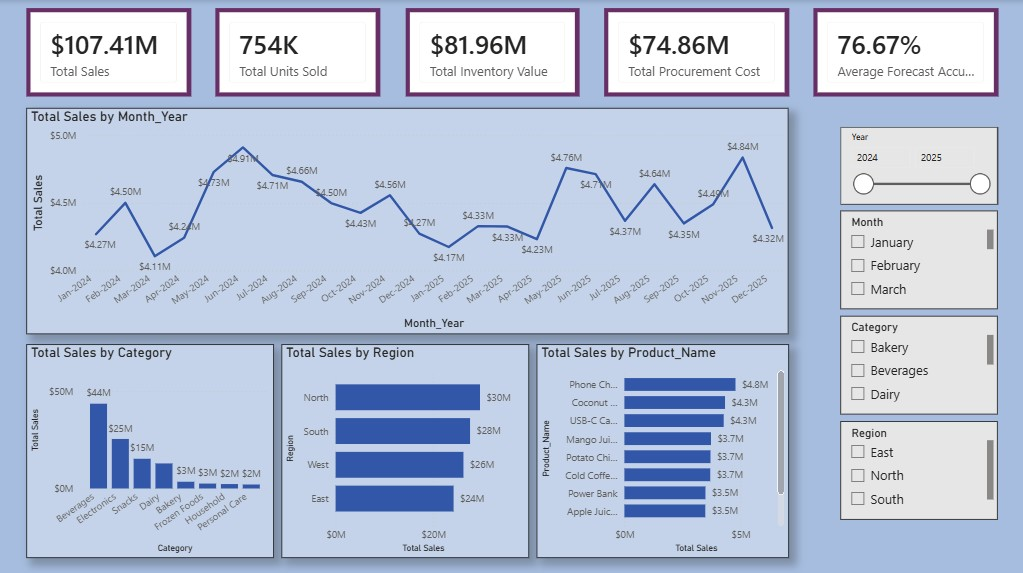

The page's visual inventory and layout, read from the dashboard file:
{"tool":"powerbi","page":{"name":"Executive Summary","canvas":[1280,720],"ordinal":0},"visuals":[{"type":"cardVisual","fields":{"Data":["Measures (2).Total Sales"]},"box":[34.9,9.4,205.9,110.7],"z":0},{"type":"cardVisual","fields":{"Data":["Measures (2).Total Units Sold"]},"box":[271.9,9.4,205.9,110.7],"z":1000},{"type":"cardVisual","fields":{"Data":["Measures (2).Total Inventory Value"]},"box":[509,9.4,216.8,110.7],"z":2000},{"type":"cardVisual","fields":{"Data":["Measures (2).Total Procurement Cost"]},"box":[756.9,9.4,230.8,110.7],"z":3000},{"type":"lineChart","fields":{"Y":["Measures (2).Total Sales"],"Category":["Dates.Month_Year"]},"box":[35.9,134.1,951.3,282.3],"z":4000},{"type":"clusteredColumnChart","fields":{"Category":["Products.Category"],"Y":["Measures (2).Total Sales"]},"box":[35.9,429.3,308.8,266.7],"z":5000},{"type":"clusteredBarChart","fields":{"Category":["Stores.Region"],"Y":["Measures (2).Total Sales"]},"box":[354,429.3,308.8,266.7],"z":6000},{"type":"clusteredBarChart","fields":{"Category":["Products.Product_Name"],"Y":["Measures (2).Total Sales"]},"box":[672.2,428.9,315,266.7],"z":7000},{"type":"slicer","fields":{"Values":["Dates.Year"]},"box":[1052.2,159.1,196.5,96.7],"z":8000},{"type":"slicer","fields":{"Values":["Dates.Month"]},"box":[1052.2,263.6,196.5,123.2],"z":9000},{"type":"slicer","fields":{"Values":["Products.Category"]},"box":[1052.2,394.6,196.5,123.2],"z":10000},{"type":"slicer","fields":{"Values":["Stores.Region"]},"box":[1052.2,525.6,196.5,123.2],"z":11000},{"type":"cardVisual","fields":{"Data":["Measures (2).Average Forecast Accuracy"]},"box":[1018.4,9.4,230.8,110.7],"z":12000}]}

Visuals, with their boxes in screenshot pixels (x1, y1, x2, y2), scaled from the page's 1280x720 canvas onto the 1023x573 screenshot:
cardVisual - Measures (2).Total Sales: (28,7,192,96)
cardVisual - Measures (2).Total Units Sold: (217,7,382,96)
cardVisual - Measures (2).Total Inventory Value: (407,7,580,96)
cardVisual - Measures (2).Total Procurement Cost: (605,7,789,96)
lineChart - Measures (2).Total Sales x Dates.Month_Year: (29,107,789,331)
clusteredColumnChart - Products.Category x Measures (2).Total Sales: (29,342,275,554)
clusteredBarChart - Stores.Region x Measures (2).Total Sales: (283,342,530,554)
clusteredBarChart - Products.Product_Name x Measures (2).Total Sales: (537,341,789,554)
slicer - Dates.Year: (841,127,998,204)
slicer - Dates.Month: (841,210,998,308)
slicer - Products.Category: (841,314,998,412)
slicer - Stores.Region: (841,418,998,516)
cardVisual - Measures (2).Average Forecast Accuracy: (814,7,998,96)
